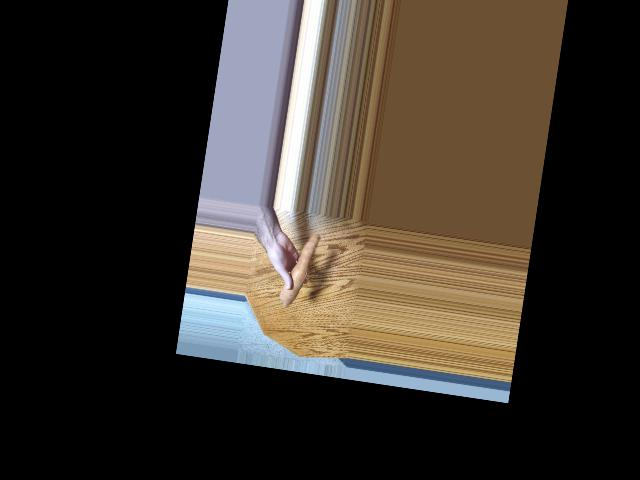sweet_potato: (282, 226, 315, 307)
